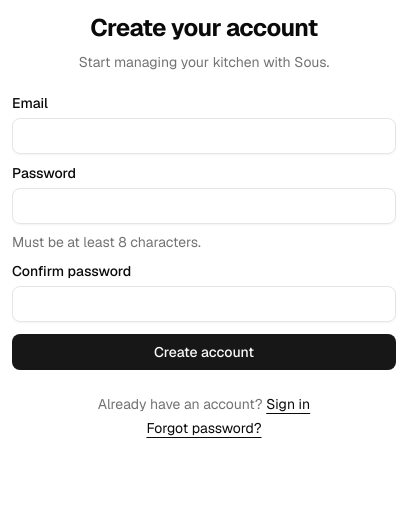
Scenario: RegisterForm › shows a neutral message for an existing email (no identities)
Type "a@b.com" into the field labelled "Email" at (204, 136), box [12,118,396,154]
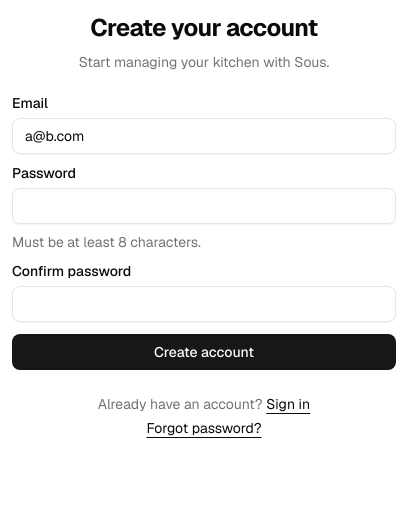
Type "password1" into the password field labelled "Password" at (204, 206), box [12,188,396,224]
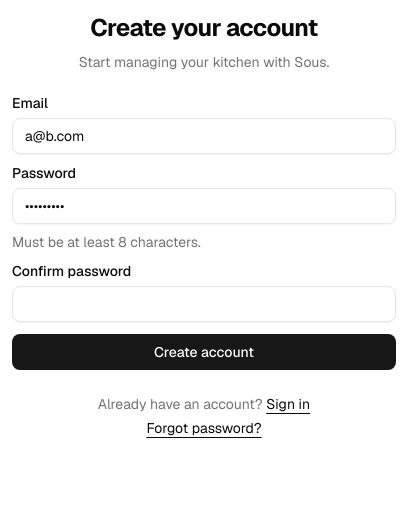
Type "password1" into the password field labelled "Confirm password" at (204, 304), box [12,286,396,322]
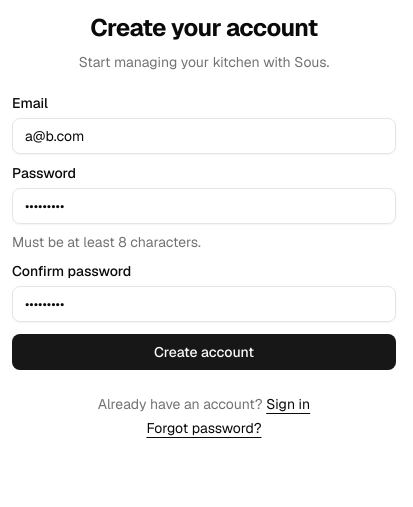
Click the button "Create account" at (204, 352), box [12,334,396,370]
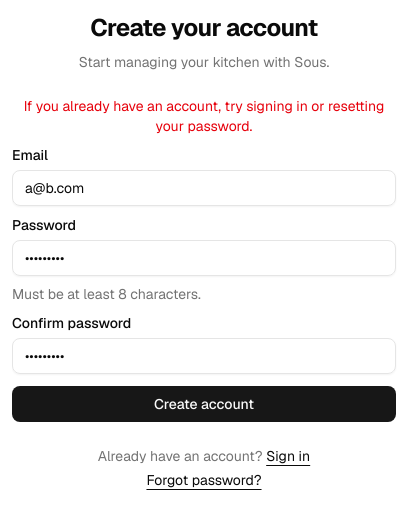
Expected: the message reads "If you already have an account, try signing in or resetting your password.", [24,97,384,135]
